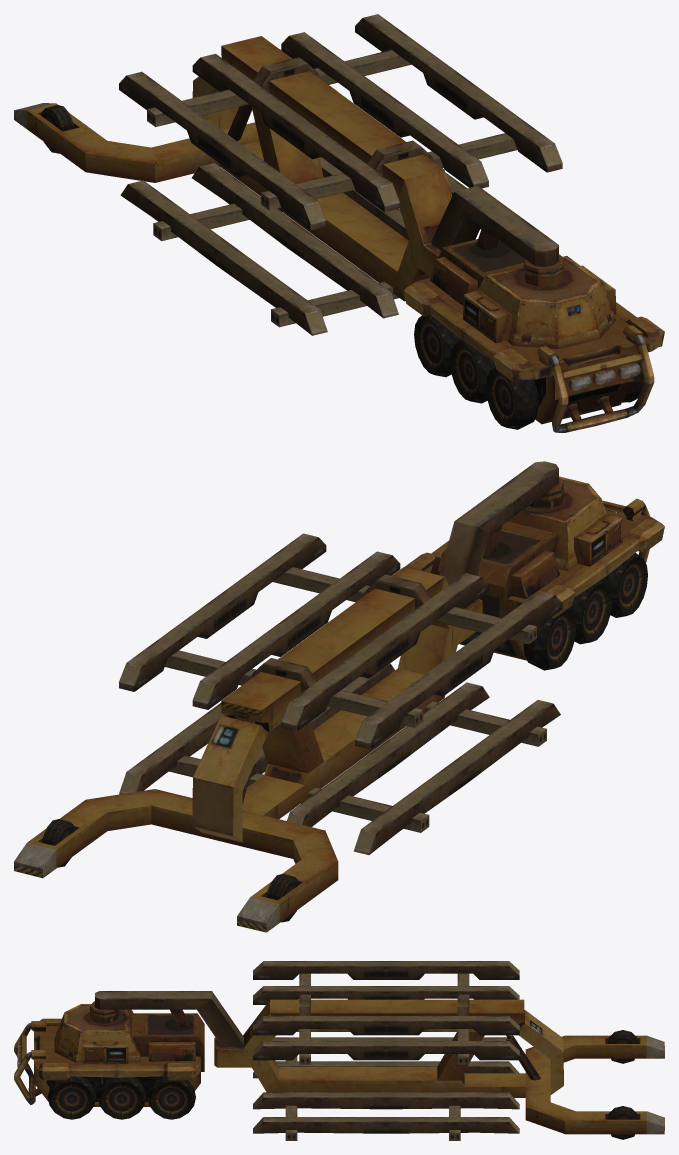
The model's file is A-CM_X360_VEHICLE_Car_Cargo.obj.
3 views of the same model, one above another, from view 1: azimuth 30°, elevation 25°; view 2: azimuth 150°, elevation 25°; view 3: azimuth 270°, elevation 25° (orthographic). The views are drawn at different scales.
Bounding box in the file's own units: 2.11 × 1.14 × 6.39.
Materials: 1 (1 with a texture image).
